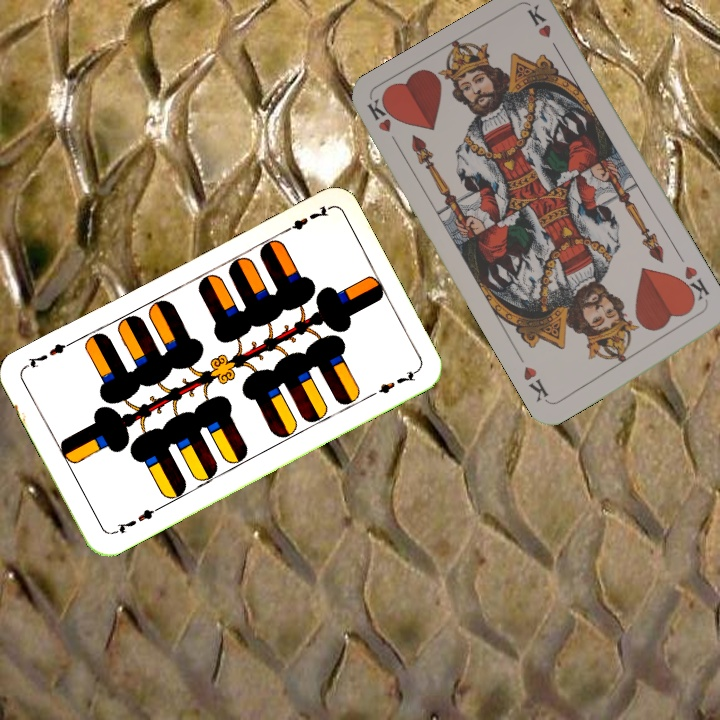E7: (277, 201, 332, 237), (108, 503, 163, 537)
HK: (363, 93, 403, 152), (675, 262, 712, 308)
